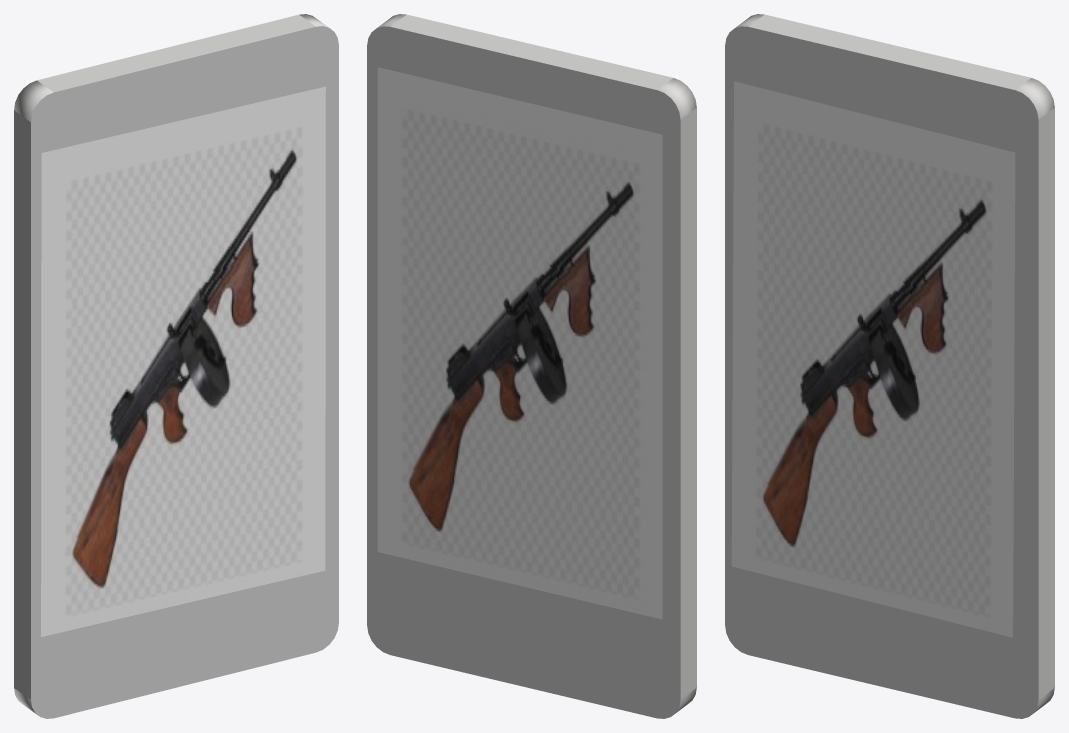
Rendered from buoy1.dae.
The picture shows the model from 3 angles, left to right: view 1: azimuth 30°, elevation 25°; view 2: azimuth 150°, elevation 25°; view 3: azimuth 330°, elevation 25°; orthographic projection.
Visible parts, largest first — view 1: gun.001, Mybuoy; view 2: gun, Mybuoy; view 3: gun.001, Mybuoy.
Part boxes in pixels (left/top/right/bottom): gun.001: left=41, top=86, right=325, bottom=636; Mybuoy: left=14, top=14, right=338, bottom=718; gun: left=377, top=67, right=662, bottom=619; Mybuoy: left=367, top=14, right=696, bottom=718; gun.001: left=731, top=81, right=1015, bottom=637; Mybuoy: left=725, top=14, right=1054, bottom=718.
Bounding box in the file's own units: 0.6726 × 0.0996 × 1.3.
Materials: 3 (2 with a texture image).
